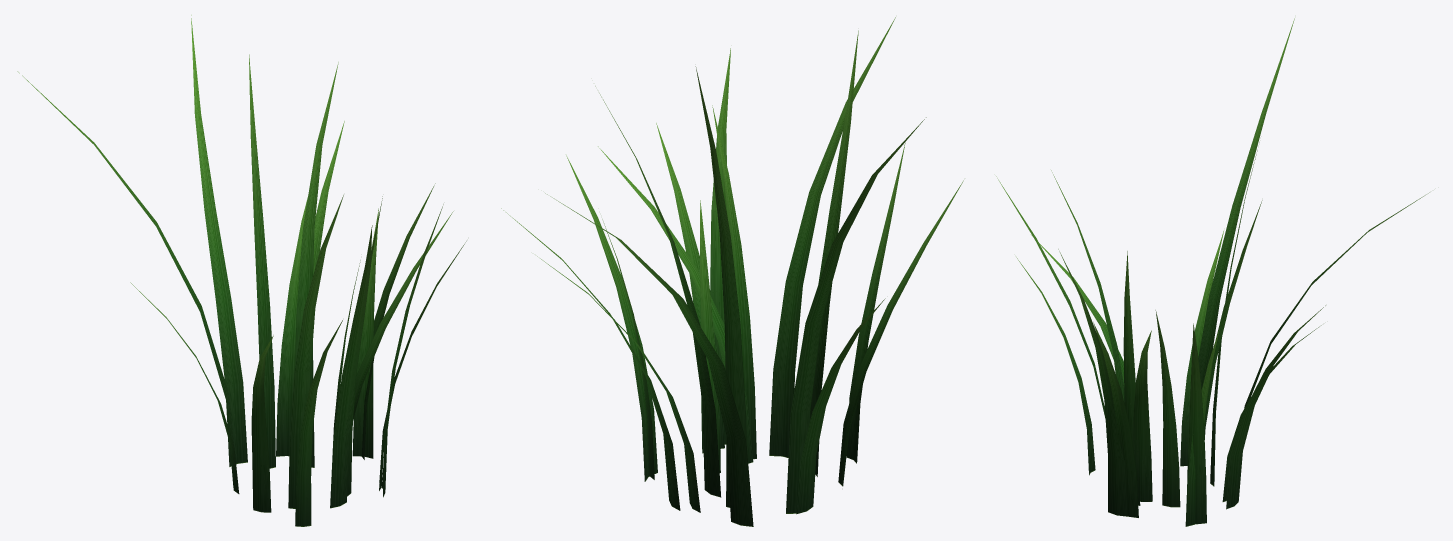
Rendered from Grass_Tuft_Large.fbx.
3 views of the same model, side by side, from view 1: azimuth 30°, elevation 25°; view 2: azimuth 150°, elevation 25°; view 3: azimuth 270°, elevation 25° (orthographic). The views are drawn at different scales.
Parts seen in each view (by area): view 1: Grass_Tuft_Large; view 2: Grass_Tuft_Large; view 3: Grass_Tuft_Large.
Boxes of the visible parts, left/top/right/bottom form: Grass_Tuft_Large: left=17, top=15, right=466, bottom=526; Grass_Tuft_Large: left=501, top=17, right=963, bottom=526; Grass_Tuft_Large: left=996, top=18, right=1429, bottom=526.
Size of the model in its own units: 2.76 by 3.03 by 3.21.
Materials: 1 (1 with a texture image).
